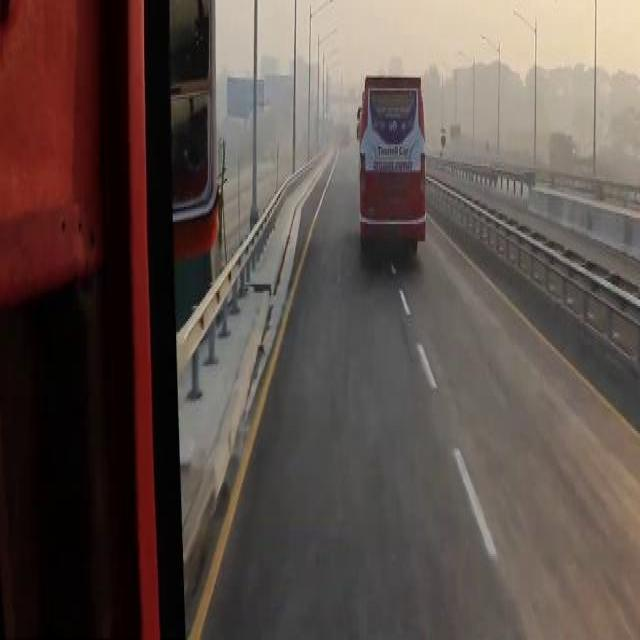vehicle: (358, 75, 425, 265)
